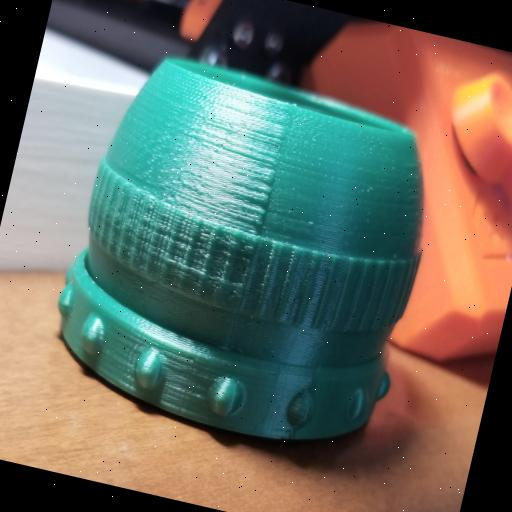blobs: (236, 108, 298, 236)
